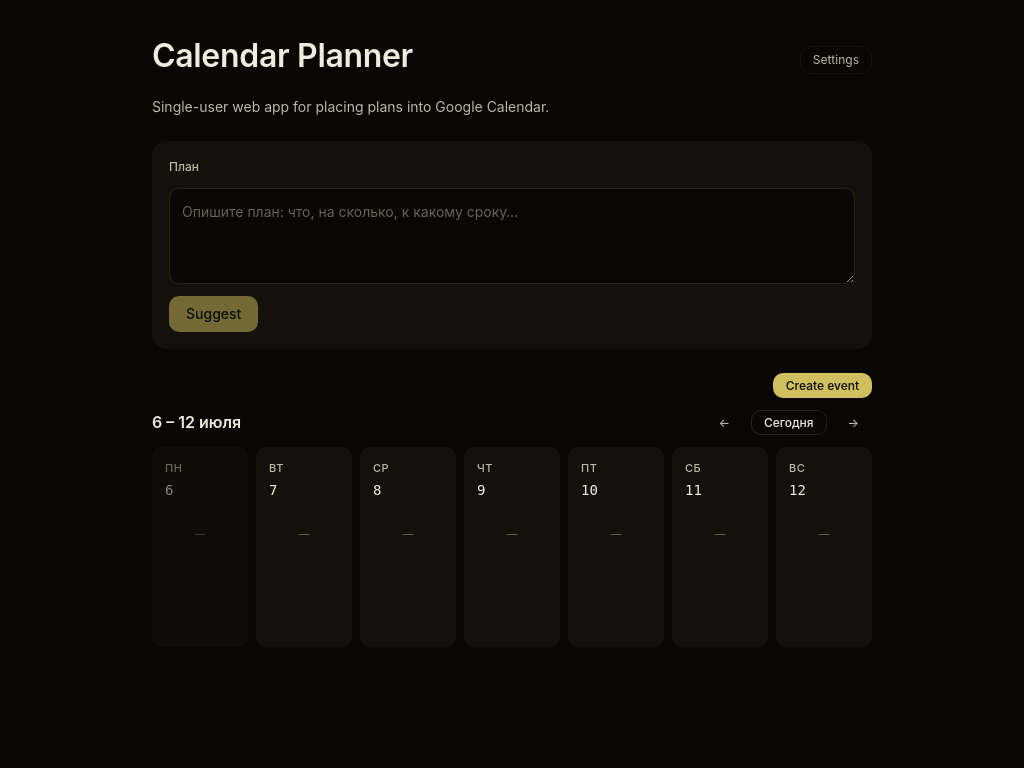
renders suggestions when the API returns the new candidate response shape
Expected: the element with test id "week-view" is shown, [152,410,872,646]
Type "подготовить презентацию" into the text box labelled "План" at (512,236), box [169,188,855,284]
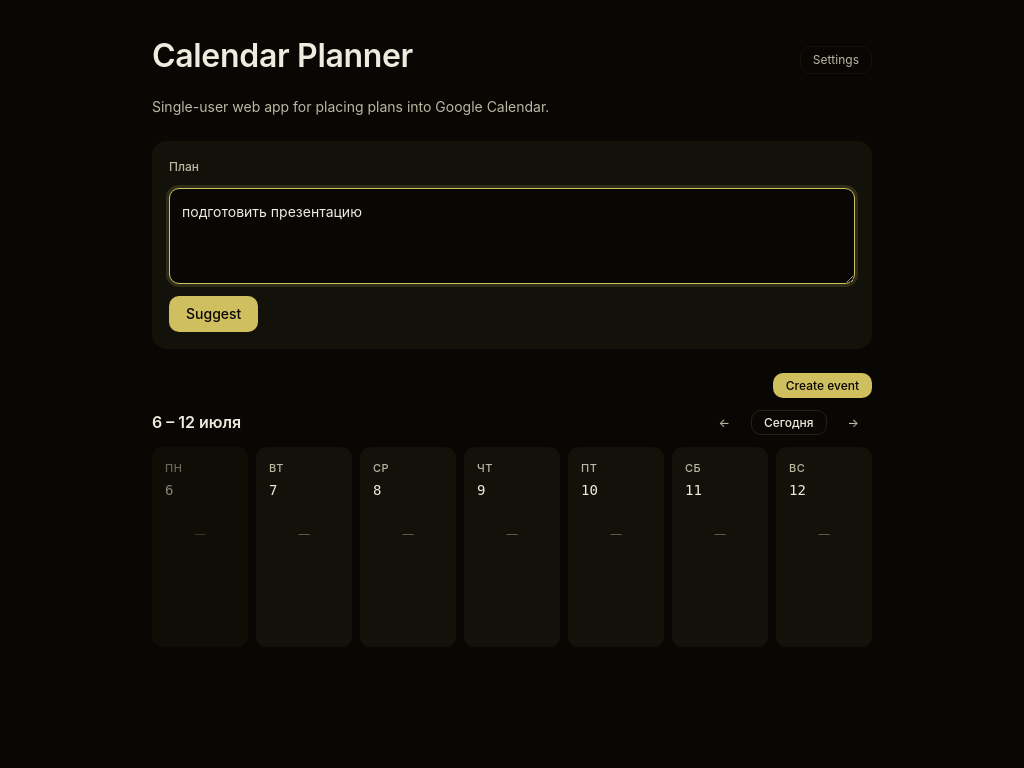
Click the button "Suggest" at (214,314), box [169,296,258,332]
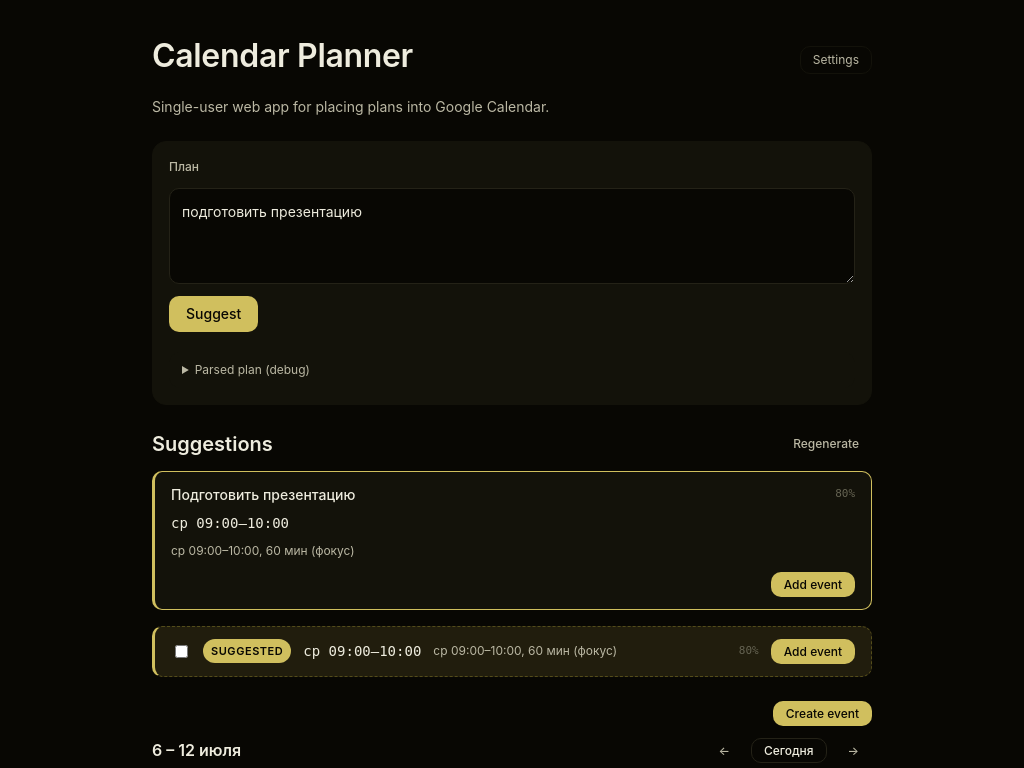
Expected: the number of elements with test id "plan-candidate-card" is 1, [152,470,872,610]
